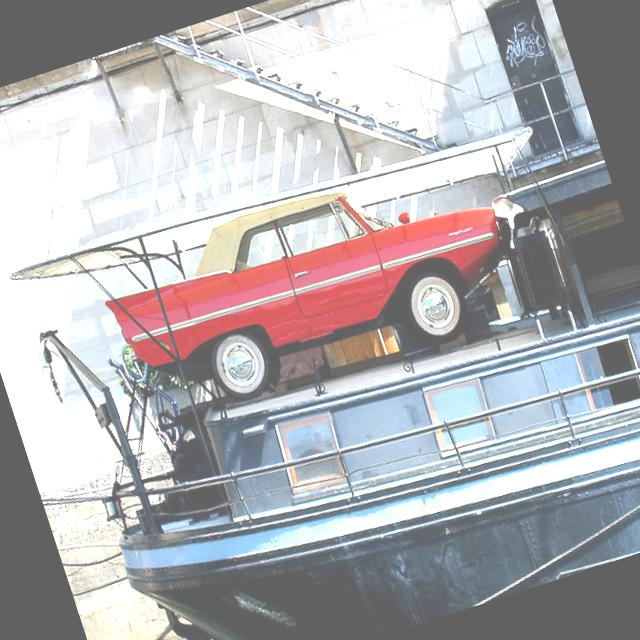Vehicle: (92, 140, 530, 436)
